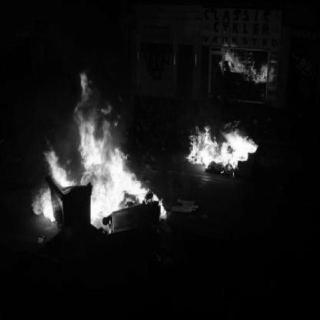Fire: (29, 78, 168, 235), (184, 113, 258, 176)
